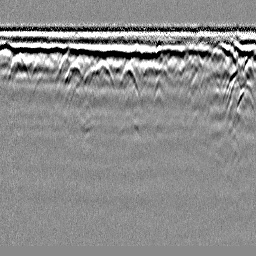cavity: (116, 63, 140, 101)
